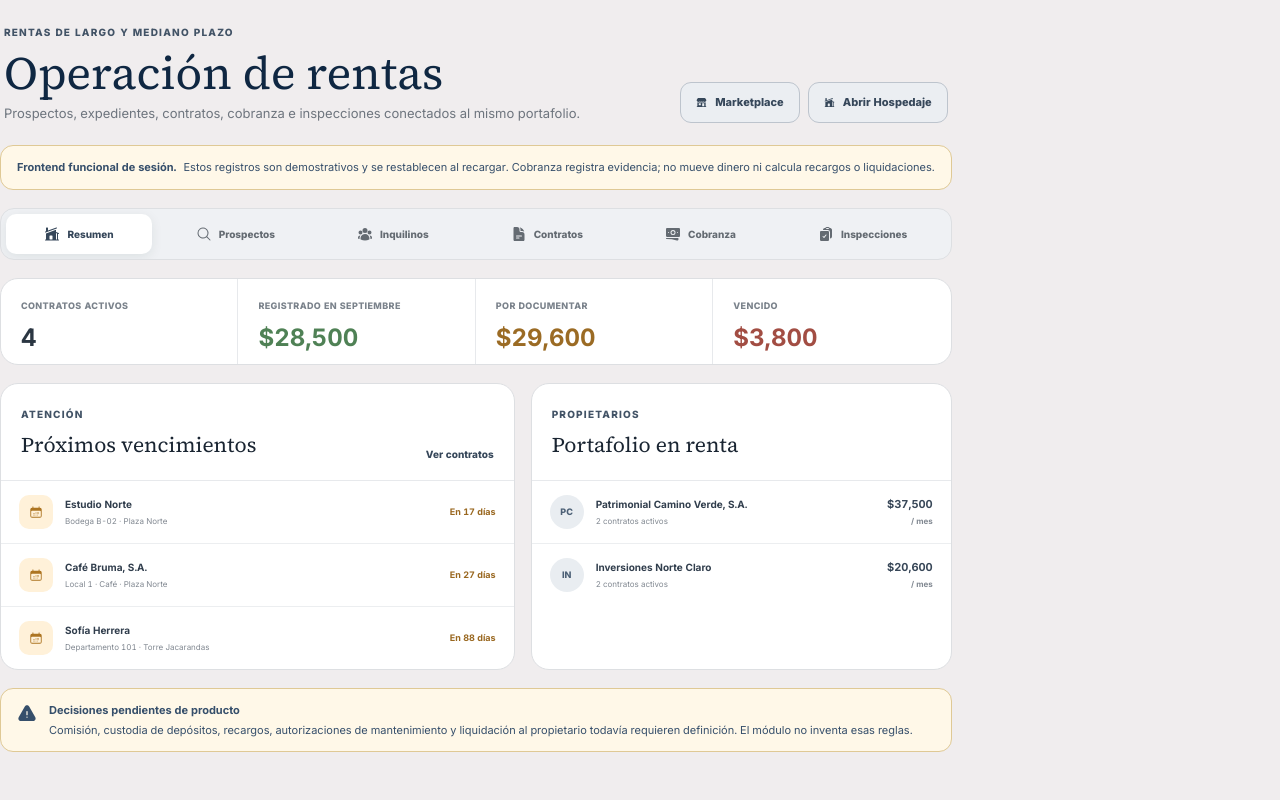
Test: RentOperationsPage › crea un prospecto y lo incorpora a la lista de la sesión
This screenshot has width=1280, height=800.
Click the button "Prospectos".
click(235, 234)  # box x1=157 y1=214 x2=314 y2=254
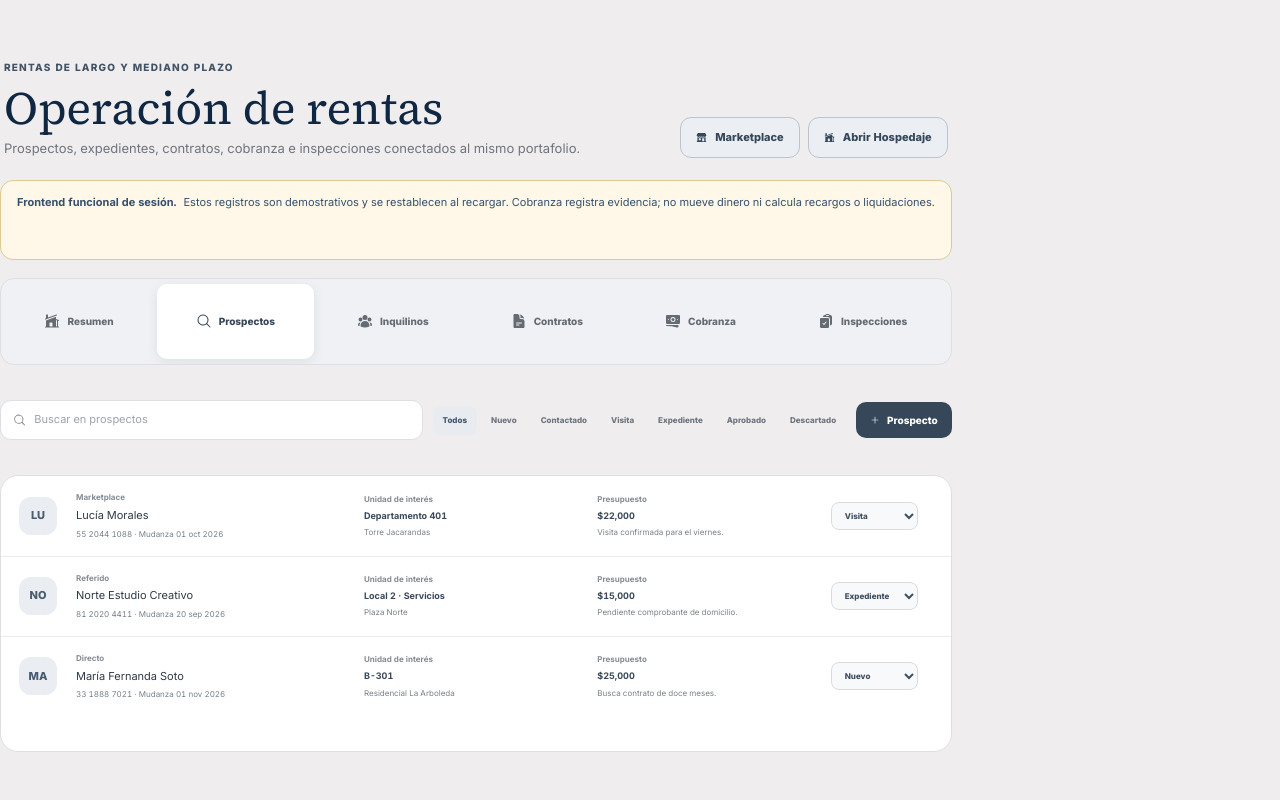
Click the button "Prospecto".
click(904, 420)  # box x1=856 y1=402 x2=952 y2=438
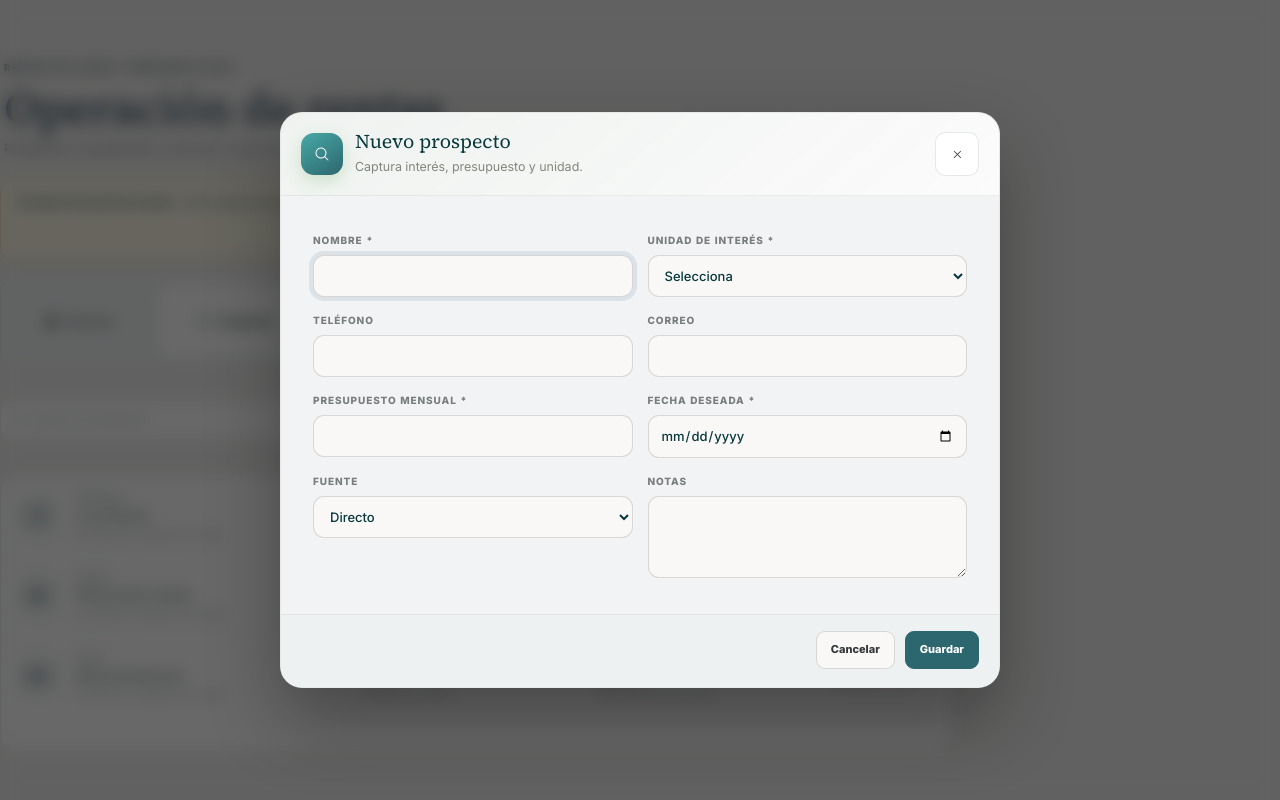
Type "Ana Torres" into the field labelled "Nombre *".
click(473, 276); type("Ana Torres")  # box x1=313 y1=255 x2=632 y2=297
Select "Torre Jacarandas · Departamento 401" in the dropdown labelled "Unidad de interés *" at coordinates (807, 276), box x1=648 y1=255 x2=967 y2=297
Type "55 1234 5678" into the field labelled "Teléfono".
click(473, 356); type("55 1234 5678")  # box x1=313 y1=335 x2=632 y2=377
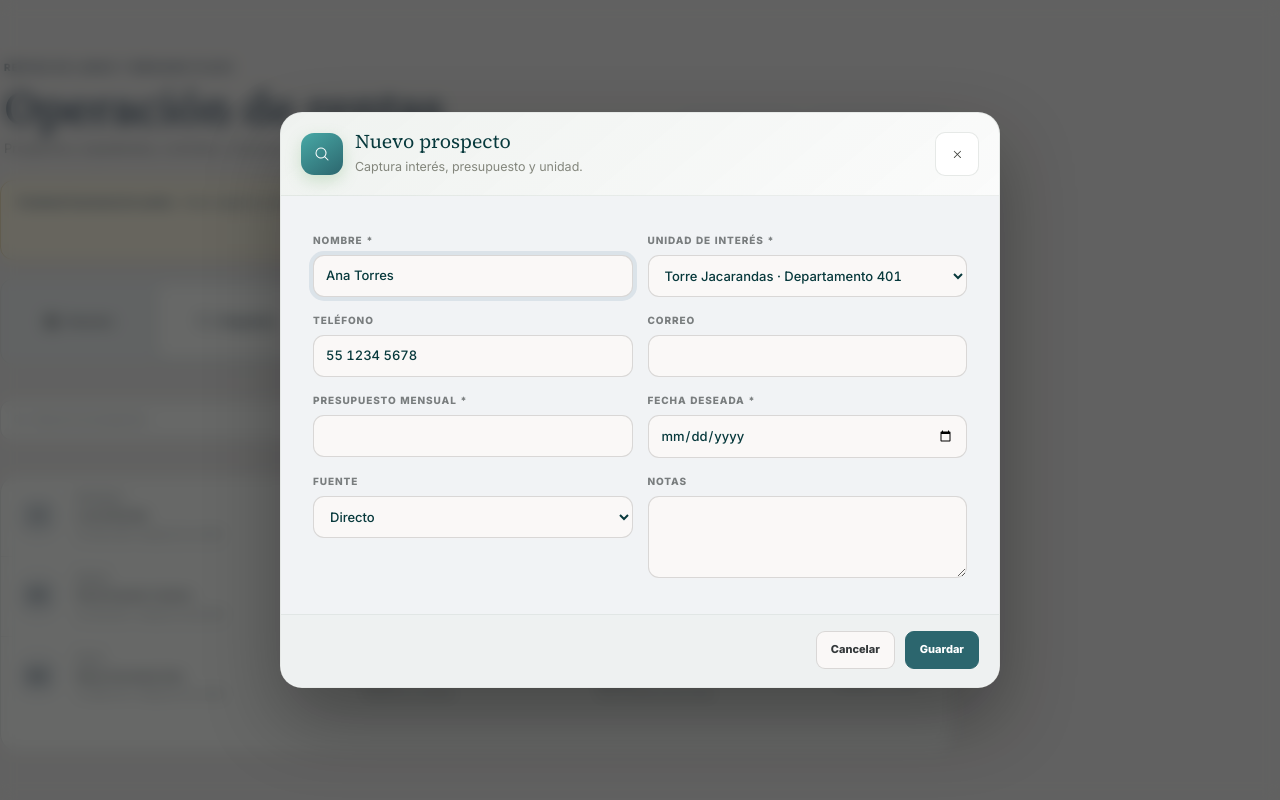
Type "23000" into the field labelled "Presupuesto mensual *".
click(473, 436); type("23000")  # box x1=313 y1=415 x2=632 y2=457
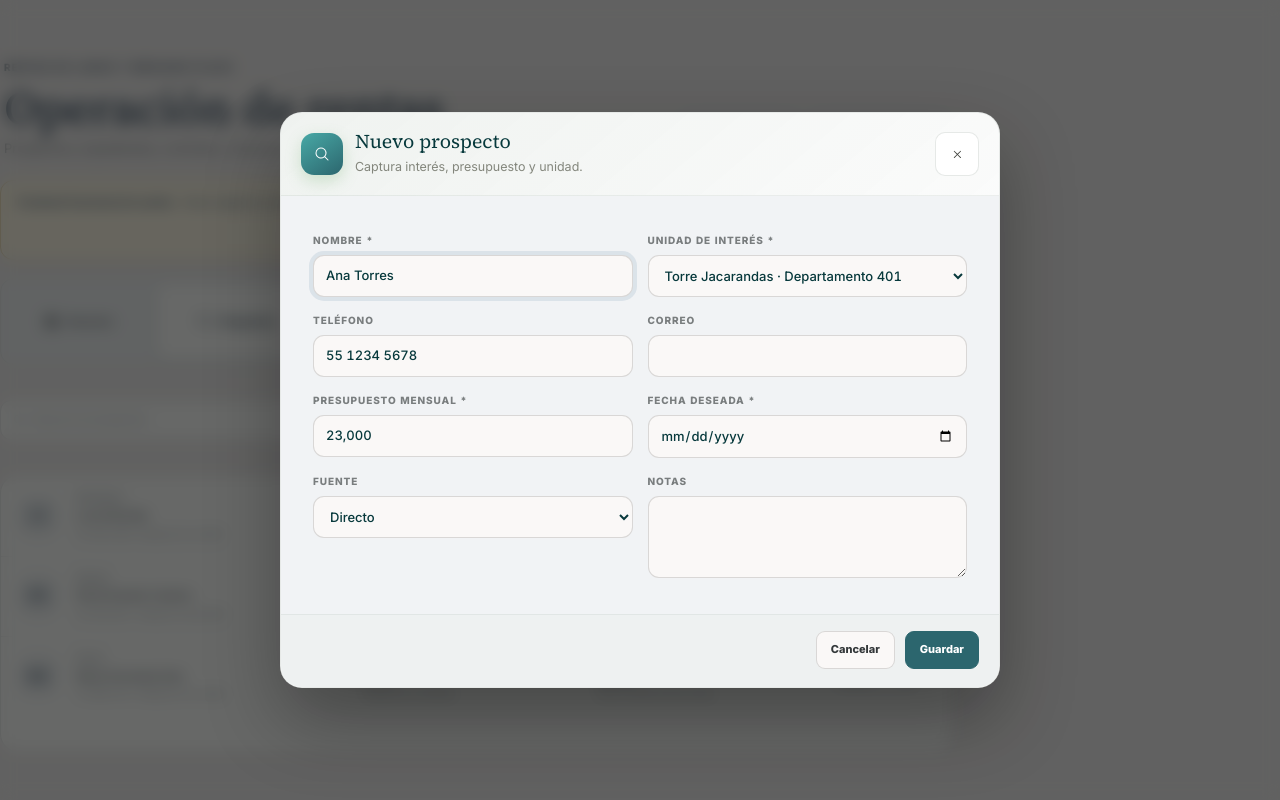
Type "2026-10-15" into the date field labelled "Fecha deseada *".
click(807, 436); type("2026-10-15")  # box x1=648 y1=415 x2=967 y2=458
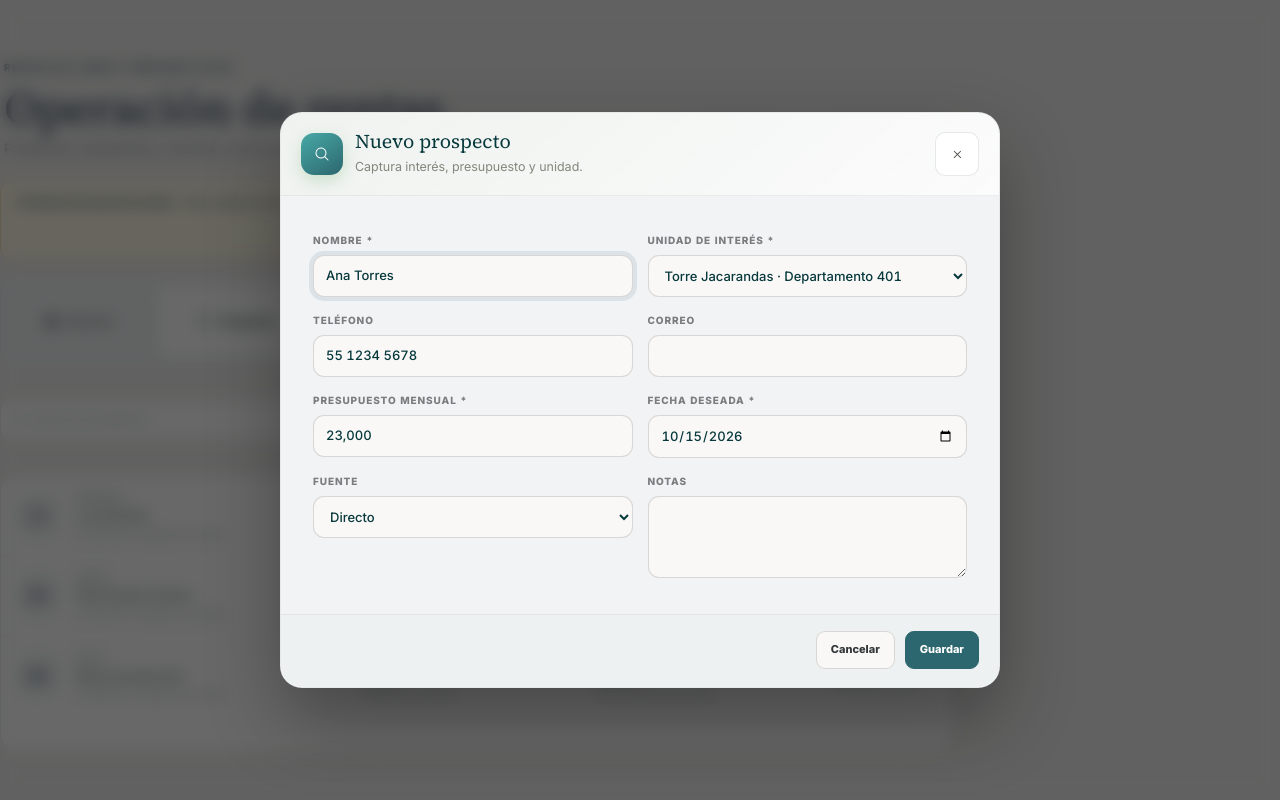
Click the button "Guardar".
click(942, 650)  # box x1=905 y1=631 x2=979 y2=669
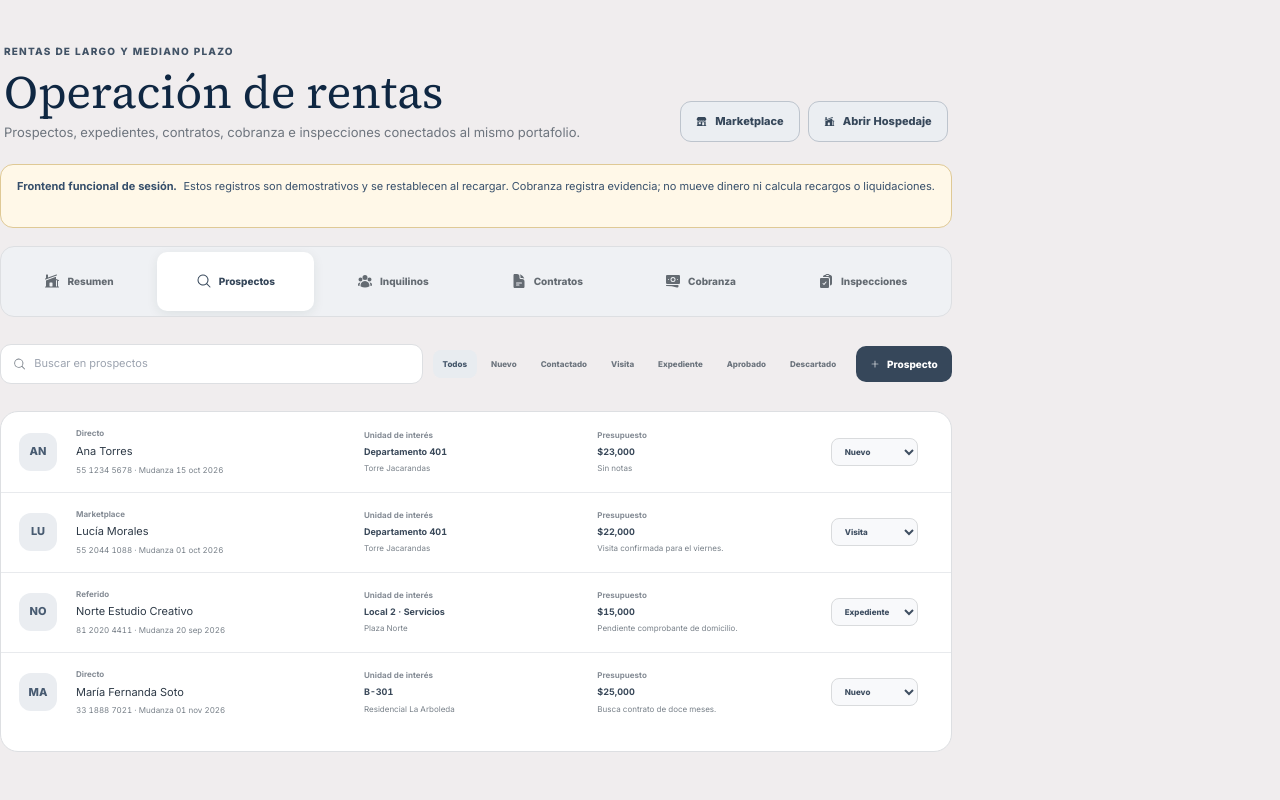
expect the heading "Ana Torres" is shown: met, box x1=76 y1=444 x2=132 y2=458
